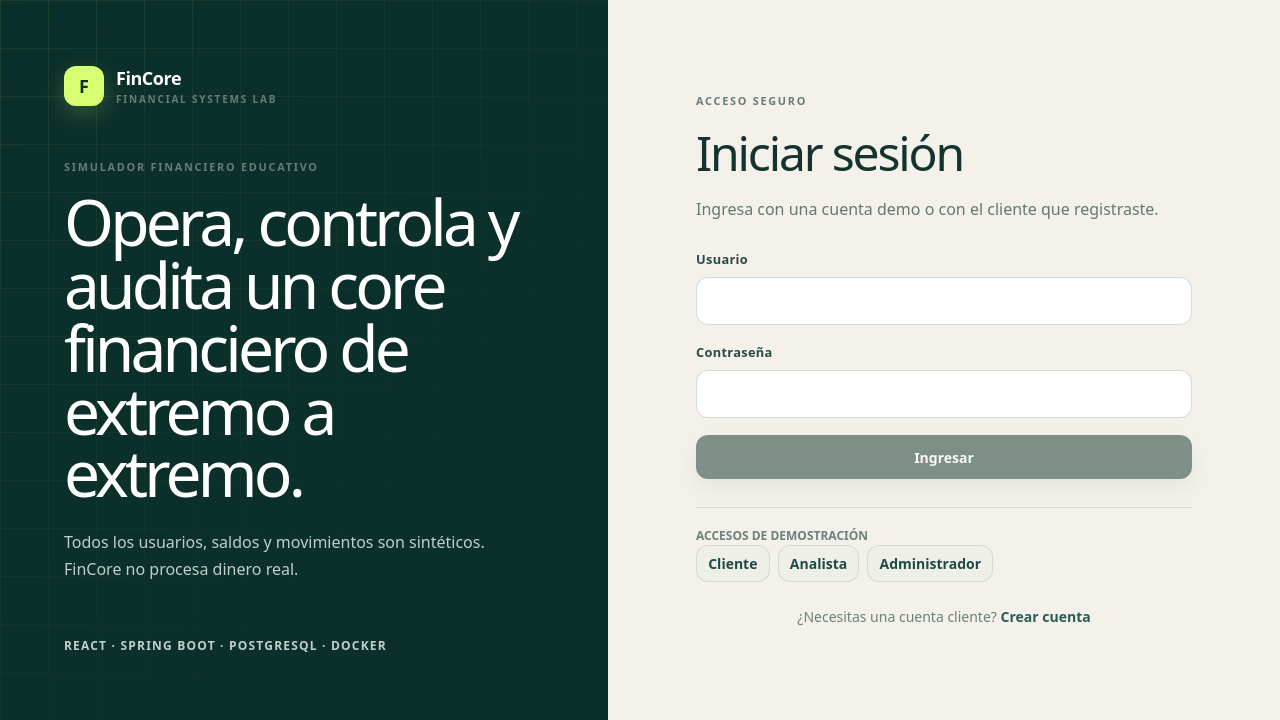
Test: rutas y sesión de FinCore › autentica al cliente demo y carga su resumen desde la API
Expected: the heading "Iniciar sesión" is shown, x1=696 y1=120 x2=963 y2=185
Click the button "Cliente" at [733, 564], box x1=696 y1=545 x2=770 y2=582
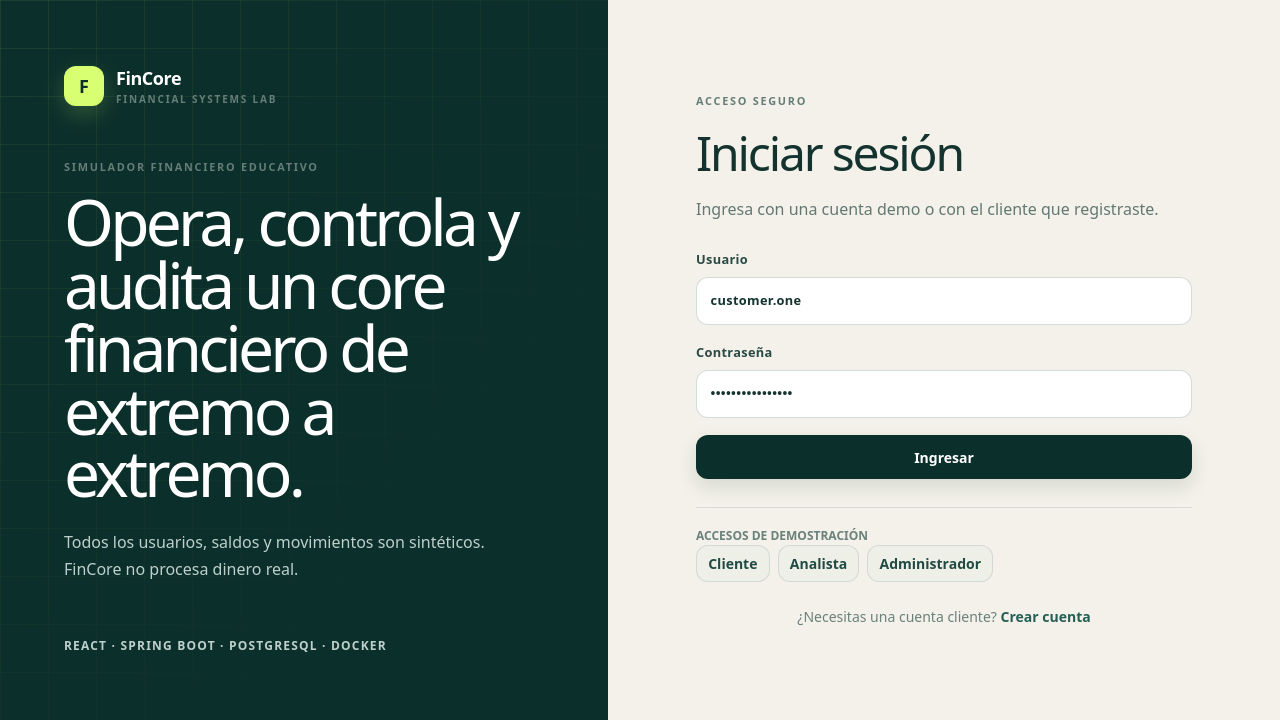
Click the button "Ingresar" at [944, 458], box x1=696 y1=436 x2=1192 y2=480
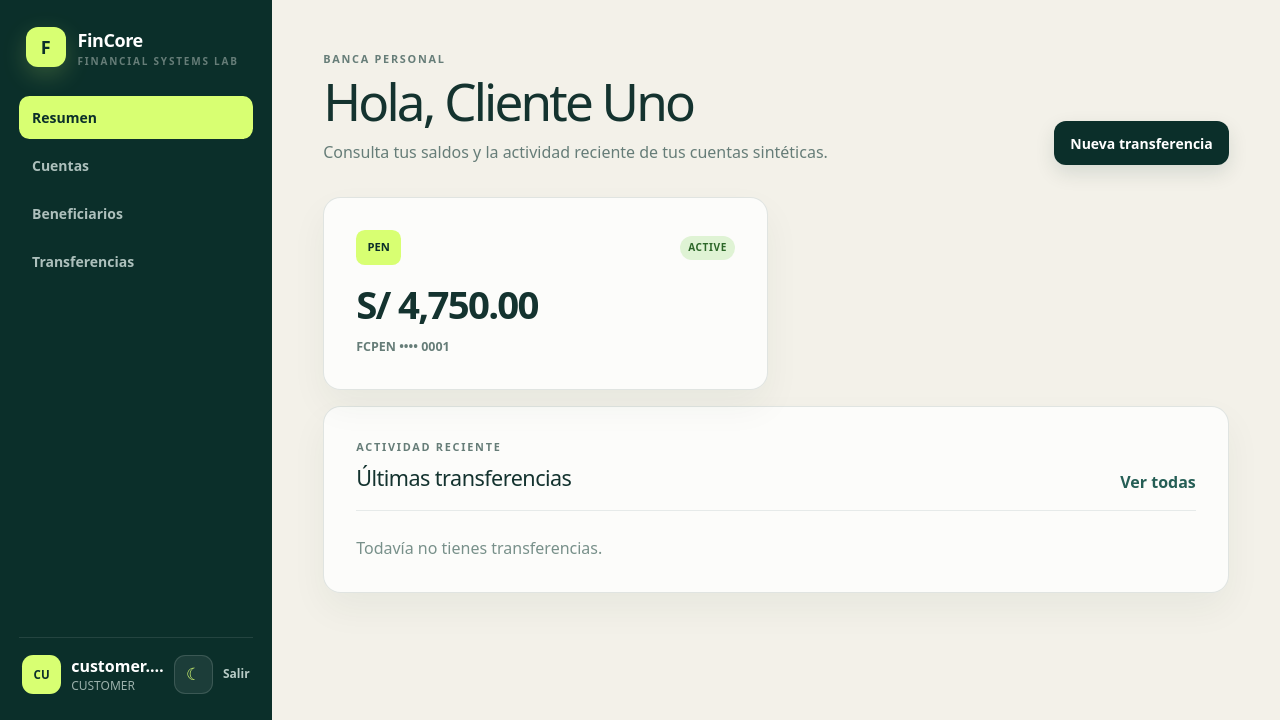
Now the heading "Hola, Cliente Uno" is shown, box x1=323 y1=66 x2=693 y2=136
Now the text "S/ 4,750.00" is shown, box x1=356 y1=278 x2=538 y2=330
